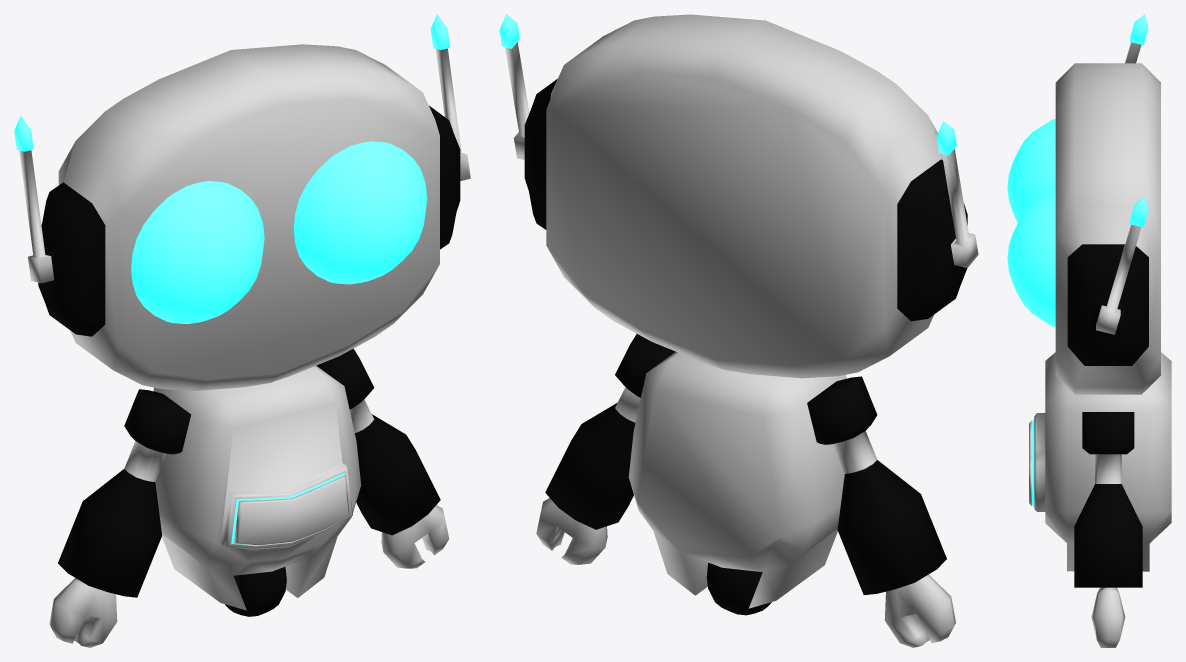
File: robot.glb
3 renders of one model, left to right at view 1: azimuth 30°, elevation 25°; view 2: azimuth 150°, elevation 25°; view 3: azimuth 270°, elevation 25°, orthographic. The views are drawn at different scales.
Visible parts, largest first — view 1: Cube.002_7; view 2: Cube.002_7; view 3: Cube.002_7.
Part boxes in pixels (box(x1,y1,x2,y2)): Cube.002_7: box(14, 14, 470, 647); Cube.002_7: box(499, 14, 978, 647); Cube.002_7: box(1007, 14, 1171, 647).
Size of the model in its own units: 2.11 by 2.58 by 0.7792.
